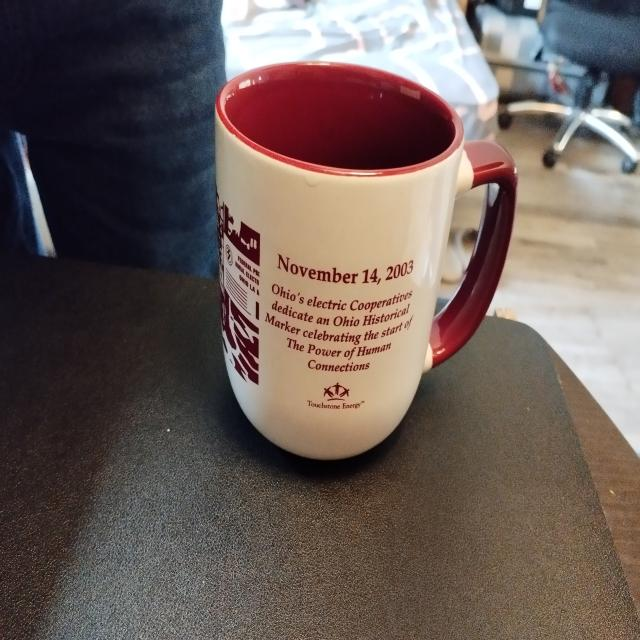Cup: (200, 55, 534, 466)
